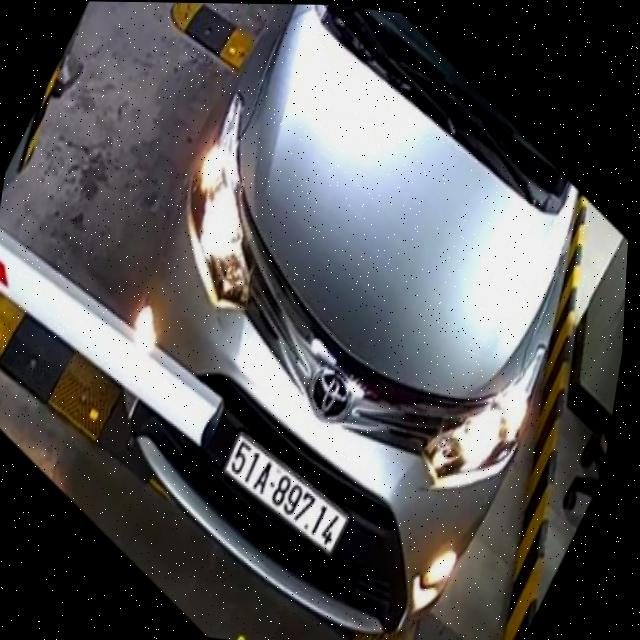car: (60, 1, 607, 640)
plate: (203, 429, 369, 561)
